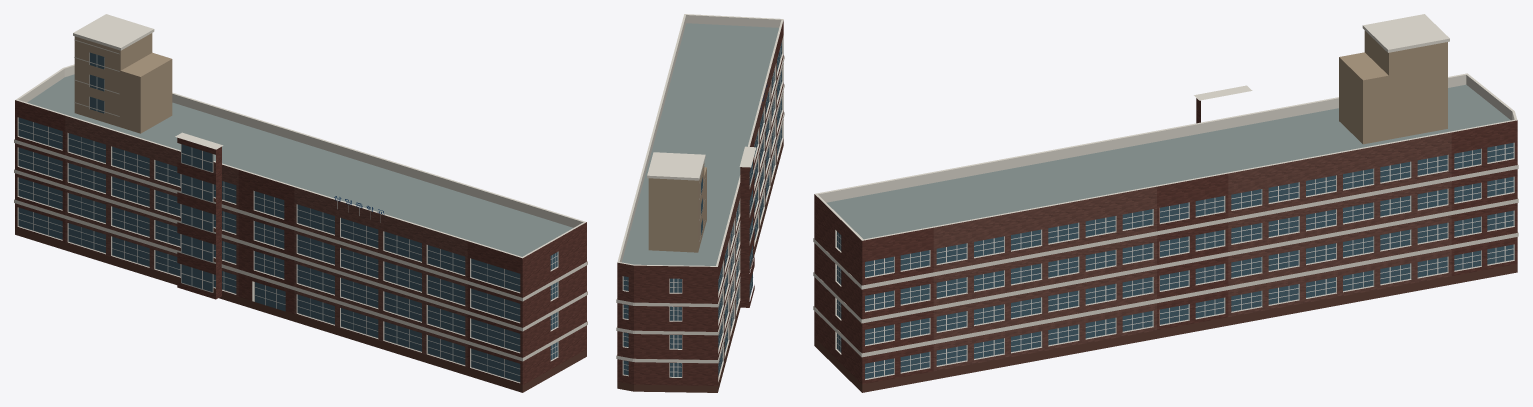
3 renders of one model, left to right at view 1: azimuth 30°, elevation 25°; view 2: azimuth 150°, elevation 25°; view 3: azimuth 270°, elevation 25°, orthographic. The views are drawn at different scales.
Visible parts, largest first — view 1: wing1__glass, wing1__brick, wing1__roof, wing1__trim-concrete, wing1__wall-plaster, wing1__frame, wing1__stair-core-beige, wing1__base-stone; view 2: wing1__roof, wing1__brick, wing1__trim-concrete, wing1__stair-core-beige, wing1__glass, wing1__wall-plaster, wing1__frame, wing1__base-stone; view 3: wing1__wall-plaster, wing1__glass, wing1__trim-concrete, wing1__roof, wing1__brick, wing1__frame, wing1__stair-core-beige, wing1__base-stone.
Boxes of the visible parts, left/top/right/bottom form: wing1__glass: left=18, top=52, right=557, bottom=381; wing1__brick: left=15, top=100, right=586, bottom=385; wing1__roof: left=27, top=74, right=572, bottom=256; wing1__trim-concrete: left=14, top=14, right=587, bottom=383; wing1__wall-plaster: left=65, top=116, right=467, bottom=368; wing1__frame: left=18, top=52, right=557, bottom=382; wing1__stair-core-beige: left=74, top=33, right=172, bottom=133; wing1__base-stone: left=15, top=227, right=586, bottom=392; wing1__roof: left=622, top=23, right=778, bottom=265; wing1__brick: left=617, top=20, right=783, bottom=385; wing1__trim-concrete: left=616, top=14, right=784, bottom=381; wing1__stair-core-beige: left=648, top=163, right=706, bottom=252; wing1__glass: left=623, top=42, right=781, bottom=376; wing1__wall-plaster: left=724, top=47, right=776, bottom=360; wing1__frame: left=623, top=41, right=782, bottom=377; wing1__base-stone: left=617, top=139, right=783, bottom=392; wing1__wall-plaster: left=933, top=132, right=1451, bottom=371; wing1__glass: left=837, top=143, right=1513, bottom=378; wing1__trim-concrete: left=813, top=14, right=1518, bottom=379; wing1__roof: left=826, top=84, right=1510, bottom=239; wing1__brick: left=814, top=98, right=1517, bottom=384; wing1__frame: left=836, top=143, right=1514, bottom=379; wing1__stair-core-beige: left=1339, top=30, right=1447, bottom=144; wing1__base-stone: left=814, top=264, right=1517, bottom=392.
Size of the model in its own units: 38.34 by 24.72 by 67.85.
9 materials, 2 textured.
